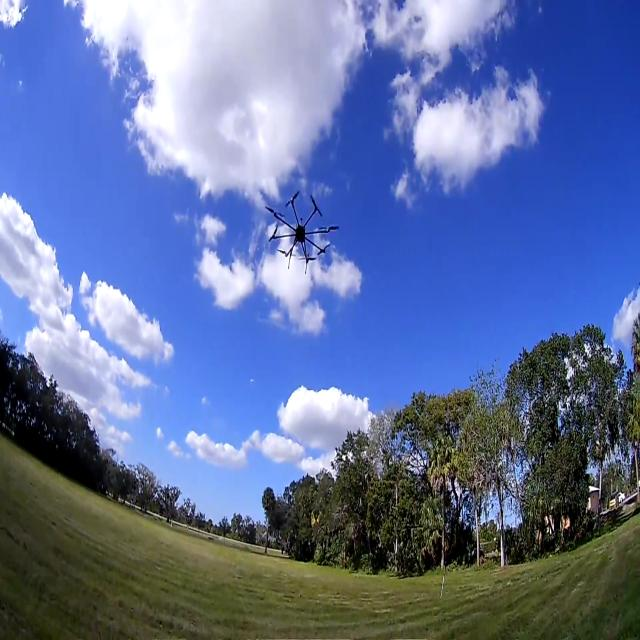drone: (258, 159, 378, 273)
